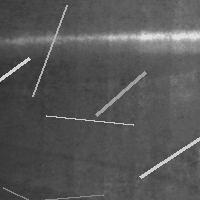scratches: (2, 27, 199, 53), (27, 0, 71, 101), (135, 127, 200, 182), (91, 67, 150, 120), (41, 110, 138, 129), (0, 53, 34, 104), (0, 182, 41, 200), (40, 190, 108, 200)
